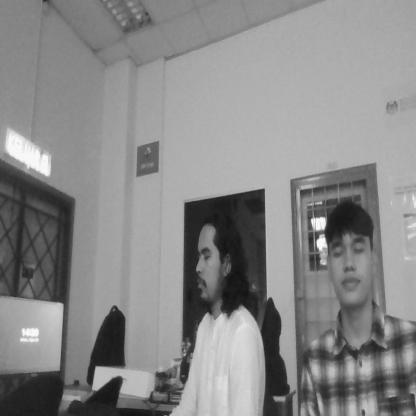Closed-Eyes: (330, 225, 371, 262), (194, 238, 217, 269)
